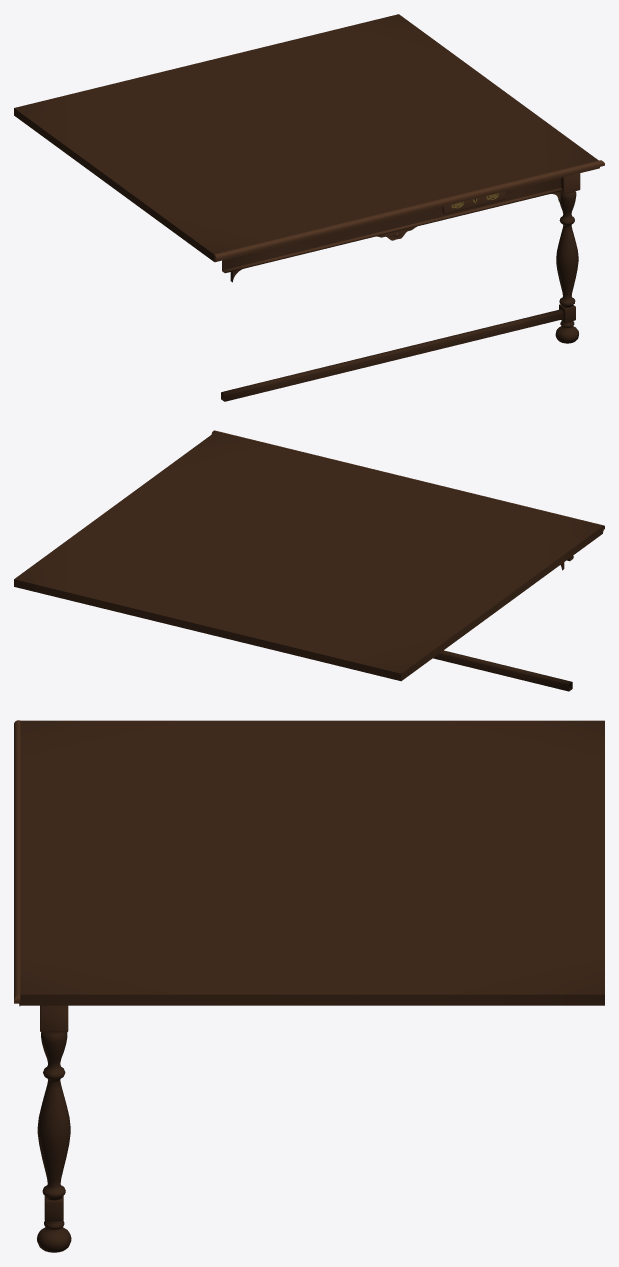
File: table.glb
3 renders of one model, top to bottom at view 1: azimuth 30°, elevation 25°; view 2: azimuth 150°, elevation 25°; view 3: azimuth 270°, elevation 25°, orthographic. The views are drawn at different scales.
Parts seen in each view (by area): view 1: core, apron_run, stretcher, top_run, leg; view 2: core, stretcher, top_run; view 3: core, leg, top_run.
Boxes of the visible parts, left/top/right/bottom form: core: left=14, top=14, right=598, bottom=261; apron_run: left=222, top=178, right=561, bottom=273; stretcher: left=221, top=309, right=563, bottom=401; top_run: left=214, top=160, right=601, bottom=262; leg: left=555, top=173, right=580, bottom=343; core: left=14, top=432, right=602, bottom=681; stretcher: left=433, top=650, right=572, bottom=691; top_run: left=216, top=431, right=604, bottom=531; core: left=20, top=720, right=604, bottom=1005; leg: left=37, top=1005, right=71, bottom=1252; top_run: left=14, top=720, right=20, bottom=997.
Size of the model in its own units: 1.74 by 0.7844 by 1.57.
